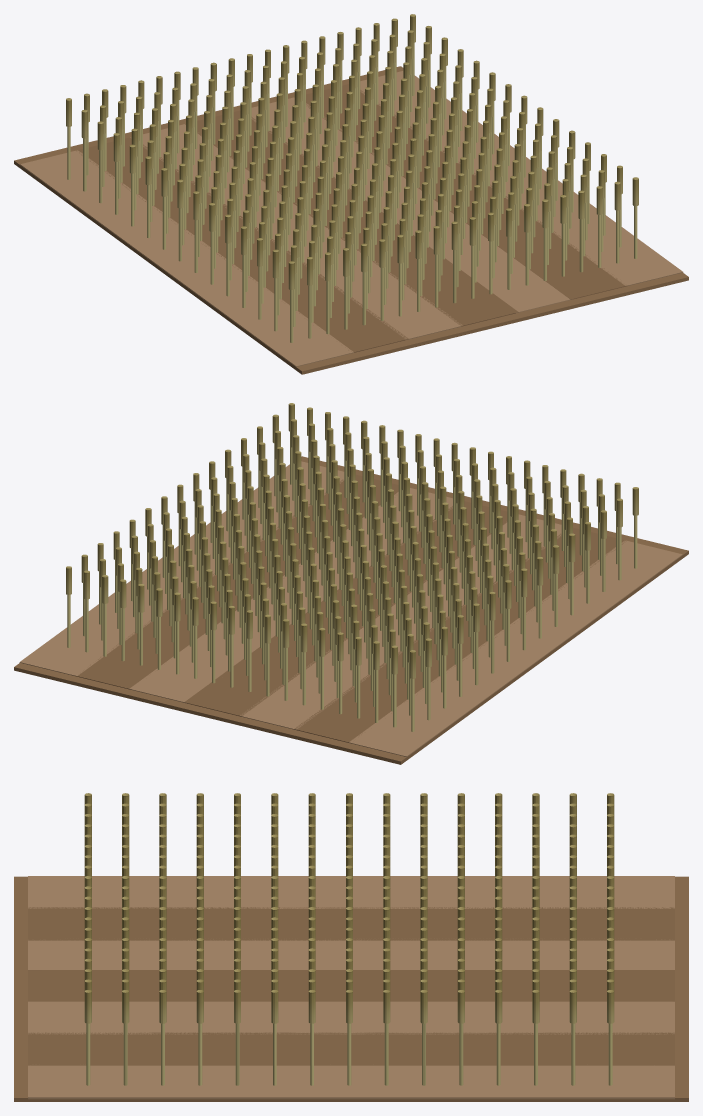
File: 79e2efaa-84f9-4688-923d-5d3eec845f14.glb
The picture shows the model from 3 angles, top to bottom: view 1: azimuth 30°, elevation 25°; view 2: azimuth 150°, elevation 25°; view 3: azimuth 270°, elevation 25°; orthographic projection. The views are drawn at different scales.
Parts seen in each view (by area): view 1: Node; view 2: Node; view 3: Node.
Boxes of the visible parts, <box> form: Node: <box>14,14,688,374</box>; Node: <box>14,403,688,764</box>; Node: <box>14,793,688,1101</box>.
Bounding box in the file's own units: 654 × 135 × 843.
1 material, 1 textured.
